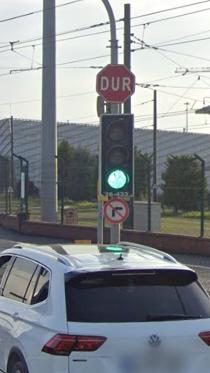greenlight: (99, 114, 135, 196)
rightturnsareforbidden: (103, 199, 129, 224)
stop: (97, 64, 135, 101)
